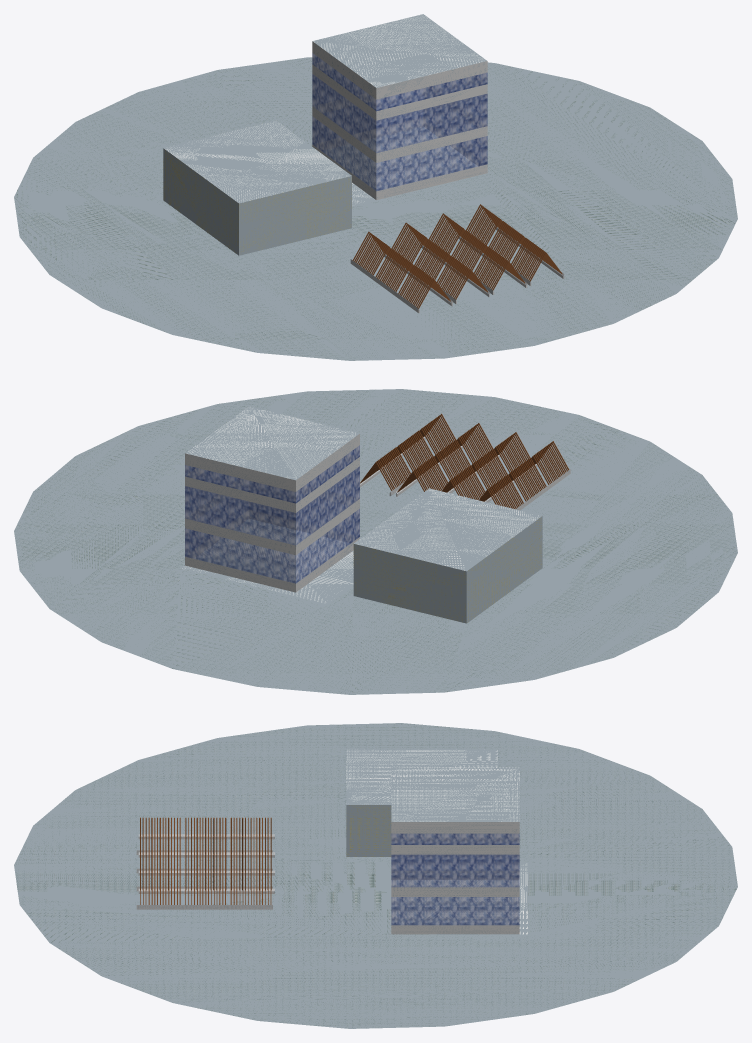
The model's file is building.obj.
3 renders of one model, top to bottom at view 1: azimuth 30°, elevation 25°; view 2: azimuth 150°, elevation 25°; view 3: azimuth 270°, elevation 25°, orthographic.
Visible parts, largest first — view 1: Mesh389 Model, Mesh386 budovsa2 Model, Mesh387 budovsa3 Model, Mesh390 Model, Mesh388 budovsa4 Model, Mesh385 budovsa1 Model; view 2: Mesh389 Model, Mesh388 budovsa4 Model, Mesh387 budovsa3 Model, Mesh390 Model, Mesh386 budovsa2 Model, Mesh385 budovsa1 Model; view 3: Mesh389 Model, Mesh385 budovsa1 Model, Mesh390 Model, Mesh387 budovsa3 Model.
Boxes of the visible parts, bbox=[...] form: Mesh389 Model: bbox=[14, 57, 737, 360]; Mesh386 budovsa2 Model: bbox=[376, 61, 487, 200]; Mesh387 budovsa3 Model: bbox=[312, 41, 376, 199]; Mesh390 Model: bbox=[312, 14, 486, 87]; Mesh388 budovsa4 Model: bbox=[313, 54, 422, 150]; Mesh385 budovsa1 Model: bbox=[423, 73, 486, 165]; Mesh389 Model: bbox=[14, 389, 737, 694]; Mesh388 budovsa4 Model: bbox=[185, 453, 295, 592]; Mesh387 budovsa3 Model: bbox=[296, 434, 359, 592]; Mesh390 Model: bbox=[185, 406, 359, 480]; Mesh386 budovsa2 Model: bbox=[249, 446, 359, 542]; Mesh385 budovsa1 Model: bbox=[185, 465, 248, 558]; Mesh389 Model: bbox=[14, 723, 737, 1028]; Mesh385 budovsa1 Model: bbox=[391, 822, 519, 934]; Mesh390 Model: bbox=[391, 767, 519, 821]; Mesh387 budovsa3 Model: bbox=[391, 834, 519, 879].
Size of the model in its own units: 415 by 70.94 by 415.
